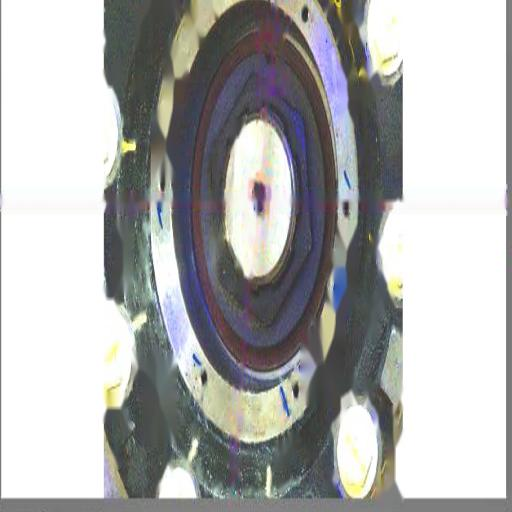center: (252, 186, 267, 221)
notch: (262, 51, 278, 76)
